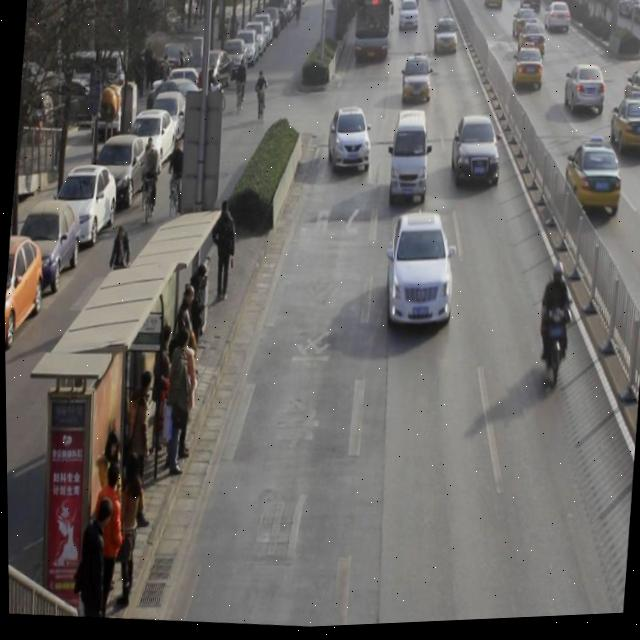car: (381, 213, 458, 336), (561, 140, 625, 224), (449, 119, 502, 193), (324, 107, 374, 178), (562, 68, 607, 121), (608, 94, 640, 166), (400, 55, 433, 111), (511, 45, 545, 97), (516, 23, 546, 62), (432, 20, 459, 62), (621, 69, 640, 125), (511, 9, 539, 44), (543, 6, 571, 39), (397, 2, 420, 36)
truck: (387, 111, 432, 205)
van: (350, 0, 392, 66)
